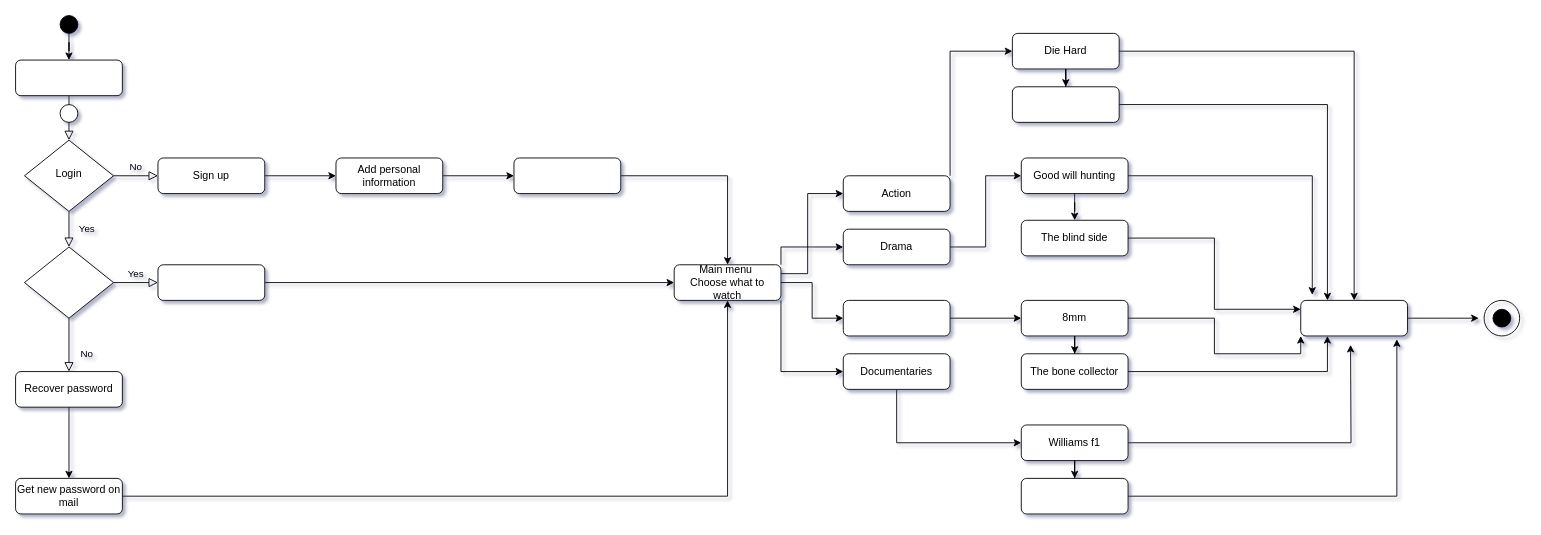
The diagram is 1541 pixels wide and 535 high, and some of its shapes have lost their labels. Here are the shapes that lost their labels. From the top down, the centre of each, then its label:
At point (68, 77): "Netflix homepage".
At point (1065, 104): "Lethal Weapon".
At point (567, 175): "Add payment".
At point (68, 282): "Username and password".
At point (211, 282): "Logged in".
At point (896, 317): "Thriller".
At point (1354, 317): "Watch".
At point (1074, 495): "The story of Robert Johnson".
